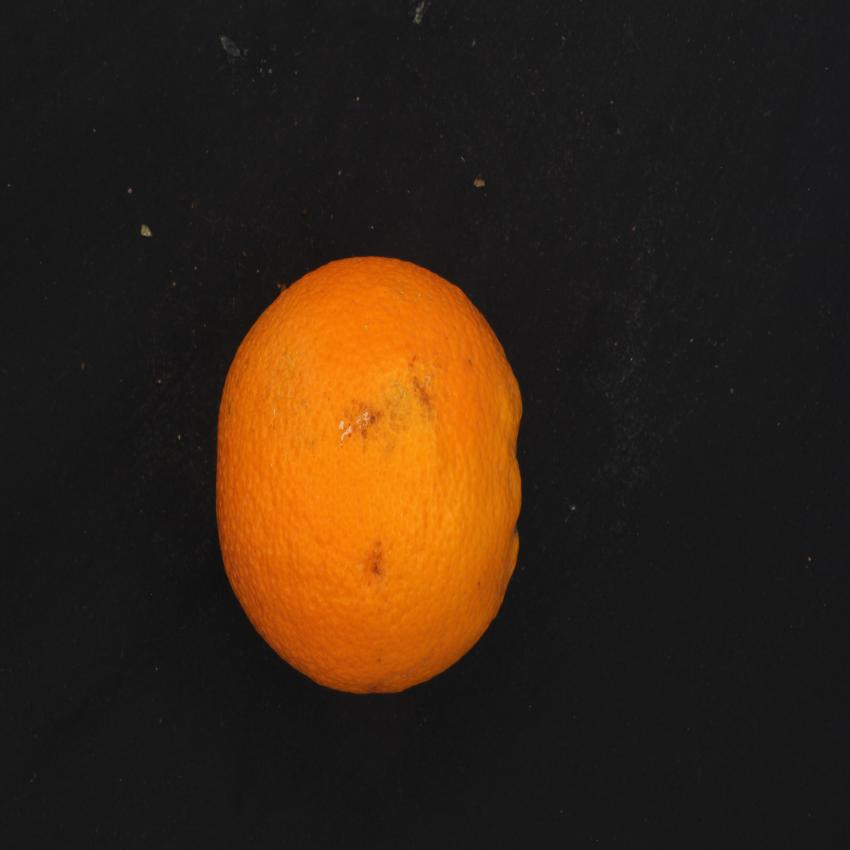Buen estado: (208, 245, 530, 708)
